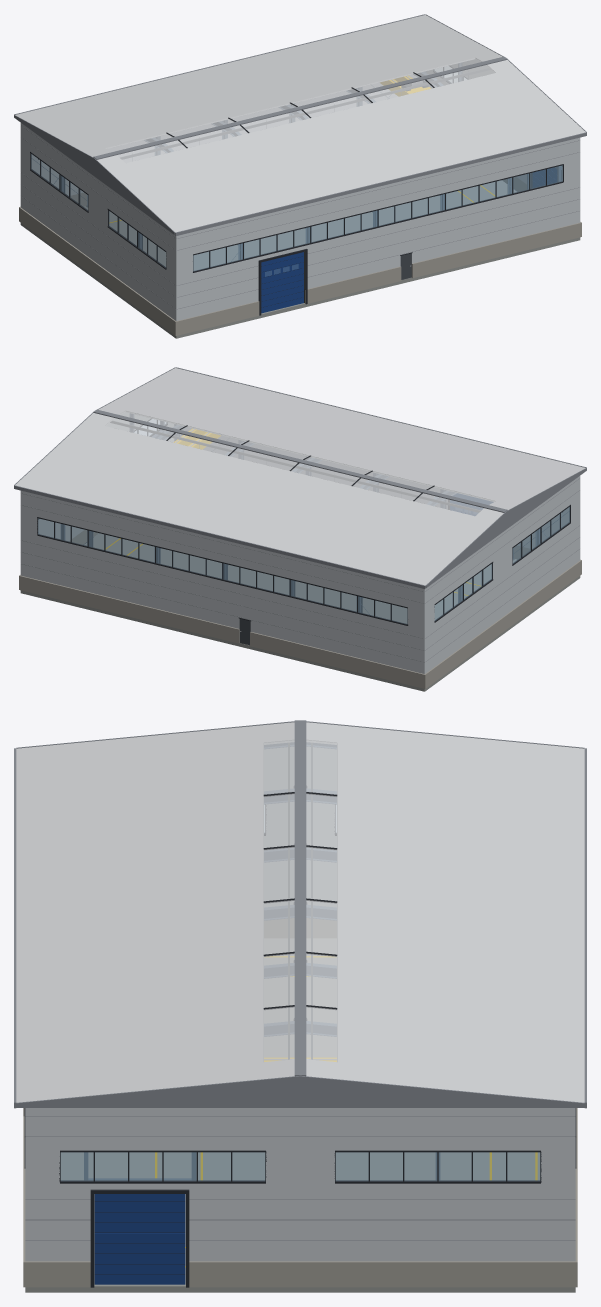
File: industrial_building_36x24m.glb
The picture shows the model from 3 angles, top to bottom: view 1: azimuth 30°, elevation 25°; view 2: azimuth 150°, elevation 25°; view 3: azimuth 270°, elevation 25°; orthographic projection. The views are drawn at different scales.
Visible parts, largest first — view 1: roof__roof, wall_front__panel, wall_west__panel, floor__slab, roof__panel_joint, roof__skylight, wall_front__glass, wall_front__concrete, wall_back__panel, wall_front__dark, wall_west__concrete, door_front__door (+7 smaller); view 2: roof__roof, wall_back__panel, wall_west__panel, floor__slab, roof__panel_joint, roof__skylight, wall_back__concrete, wall_back__glass, wall_front__panel, wall_west__concrete, wall_back__dark, wall_back__panel_joint (+6 smaller); view 3: roof__roof, wall_east__panel, roof__skylight, floor__slab, roof__panel_joint, wall_east__concrete, wall_east__glass, door_east__door, wall_west__panel, wall_east__dark, structure__struct, wall_east__panel_joint (+3 smaller).
Part boxes in pixels (<box>): roof__roof: <box>15,15,585,232</box>; wall_front__panel: <box>175,138,580,320</box>; wall_west__panel: <box>21,123,177,320</box>; floor__slab: <box>20,180,580,338</box>; roof__panel_joint: <box>14,14,586,235</box>; roof__skylight: <box>105,57,495,162</box>; wall_front__glass: <box>193,165,562,271</box>; wall_front__concrete: <box>176,223,580,335</box>; wall_back__panel: <box>20,75,417,207</box>; wall_front__dark: <box>193,164,563,315</box>; wall_west__concrete: <box>19,207,177,335</box>; door_front__door: <box>261,252,303,313</box>; roof__roof: <box>15,368,585,585</box>; wall_back__panel: <box>20,490,425,673</box>; wall_west__panel: <box>423,476,580,673</box>; floor__slab: <box>20,533,580,691</box>; roof__panel_joint: <box>14,367,586,588</box>; roof__skylight: <box>105,411,495,515</box>; wall_back__concrete: <box>20,576,424,688</box>; wall_back__glass: <box>38,518,407,624</box>; wall_front__panel: <box>180,428,580,558</box>; wall_west__concrete: <box>423,560,581,688</box>; wall_back__dark: <box>37,517,408,625</box>; wall_back__panel_joint: <box>21,493,424,662</box>; roof__roof: <box>16,722,584,1102</box>; wall_east__panel: <box>25,1108,575,1261</box>; roof__skylight: <box>263,739,337,1061</box>; floor__slab: <box>25,938,575,1292</box>; roof__panel_joint: <box>14,720,586,1108</box>; wall_east__concrete: <box>23,1261,577,1287</box>; wall_east__glass: <box>60,1152,540,1181</box>; door_east__door: <box>94,1194,185,1284</box>; wall_west__panel: <box>264,747,336,907</box>; wall_east__dark: <box>59,1150,541,1287</box>; structure__struct: <box>84,742,440,1180</box>; wall_east__panel_joint: <box>25,1116,575,1240</box>.
Size of the model in its own units: 36.72 by 10.62 by 25.
